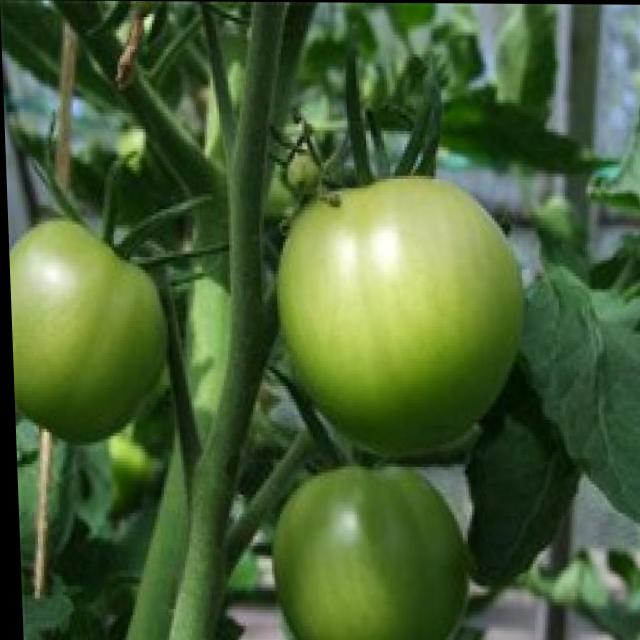yesil: (257, 99, 547, 442), (6, 202, 159, 449)
